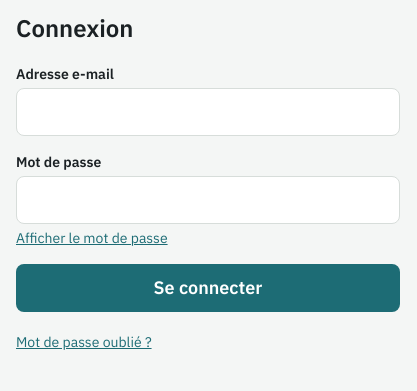
LoginPage (D5, ADR-030) › D5_checksTheEmailBeforeCallingTheServer
Type "amina" into the field labelled "Adresse e-mail".
click(208, 112); type("amina")  # box [16, 88, 400, 136]
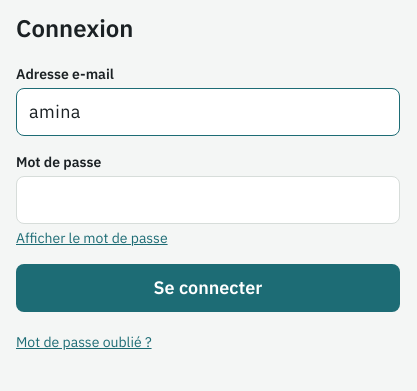
Type "x" into the password field labelled "Mot de passe".
click(208, 200); type("x")  # box [16, 176, 400, 224]
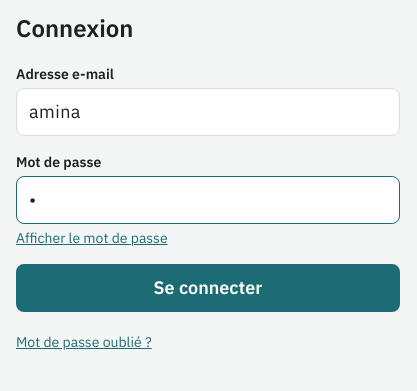
Click the button "Se connecter".
click(208, 288)  # box [16, 264, 400, 312]
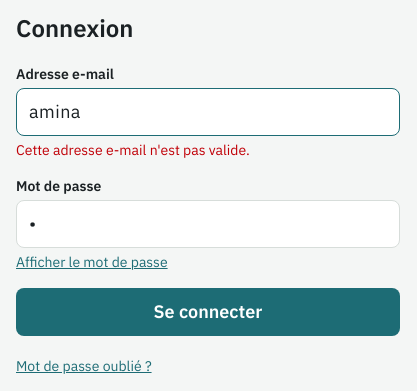
Now the text "Cette adresse e-mail n'est pas valide." is shown, box [16, 141, 250, 159]
